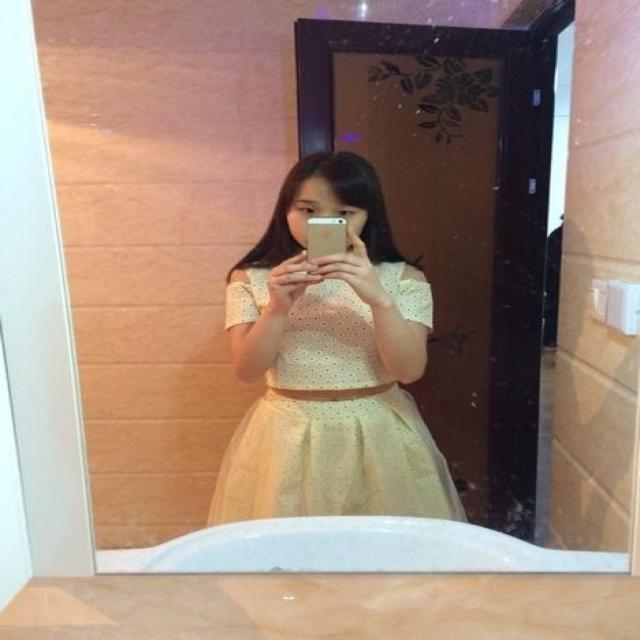short sleeve top: (226, 243, 432, 390)
skirt: (212, 383, 468, 530)
